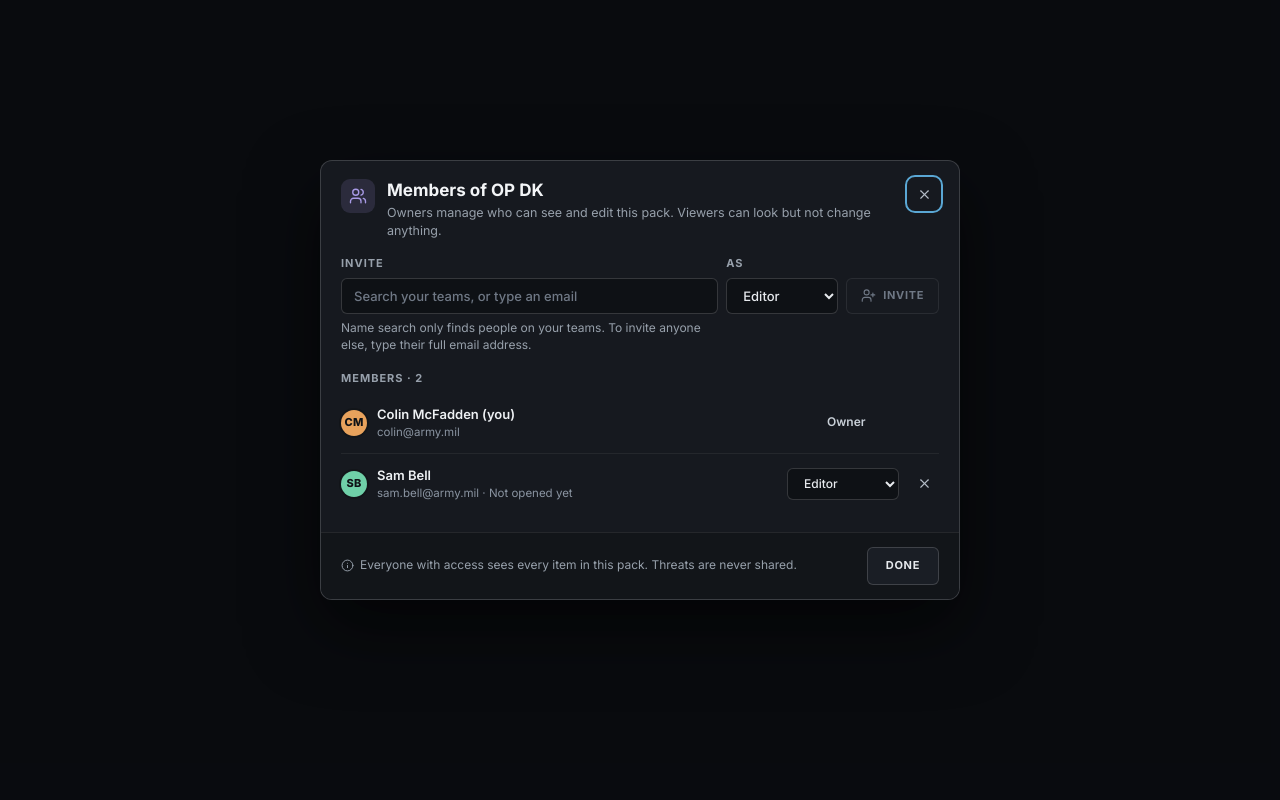
Scenario: handing a pack over › asks before making someone the owner, says the owner becomes an editor, then hands it over
Select "Owner" in the dropdown named "Role of Sam Bell". click: (843, 484)
box: top-left (787, 468), bottom-right (899, 500)
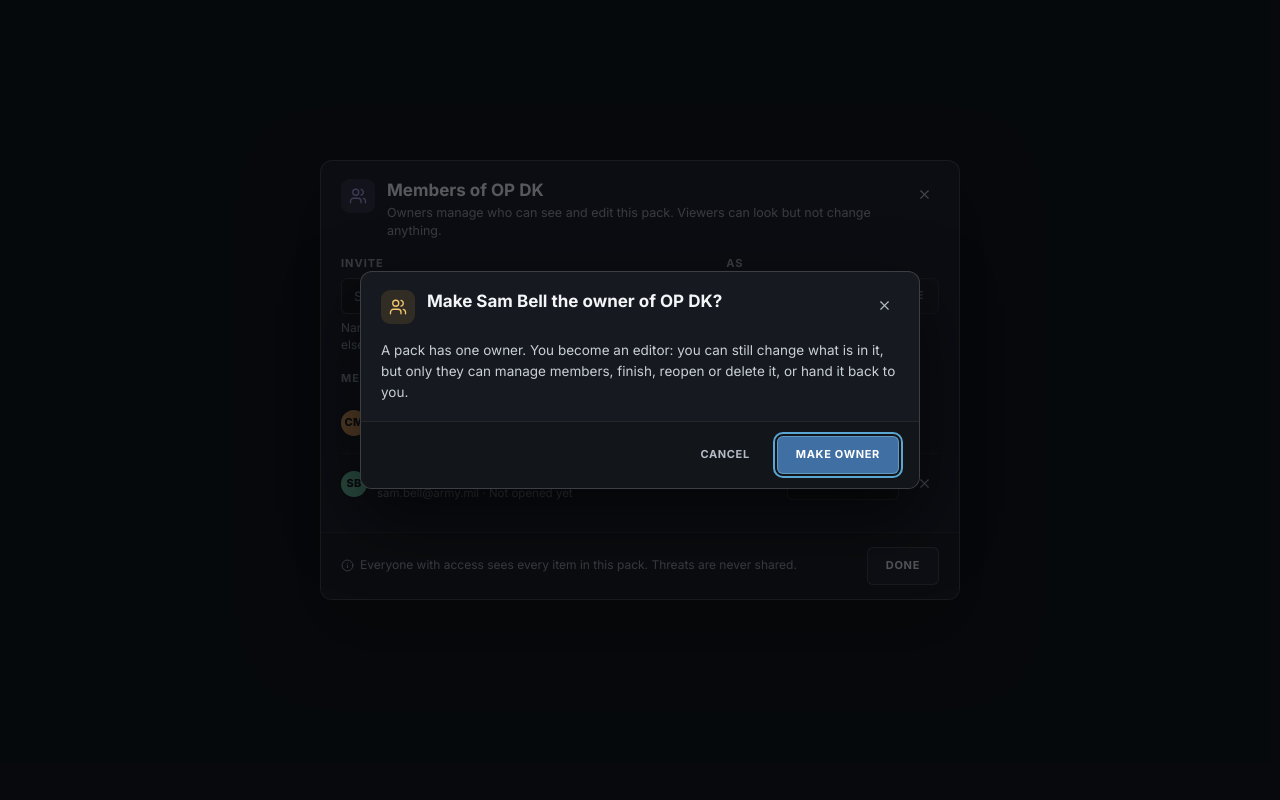
Expected: the heading "Make Sam Bell the owner of OP DK?" is shown, top-left (427, 290), bottom-right (722, 312)
Expected: the text "You become an editor" is shown, top-left (381, 342), bottom-right (895, 400)
Click the button "Make owner". click: (838, 455)
box: top-left (777, 436), bottom-right (899, 474)
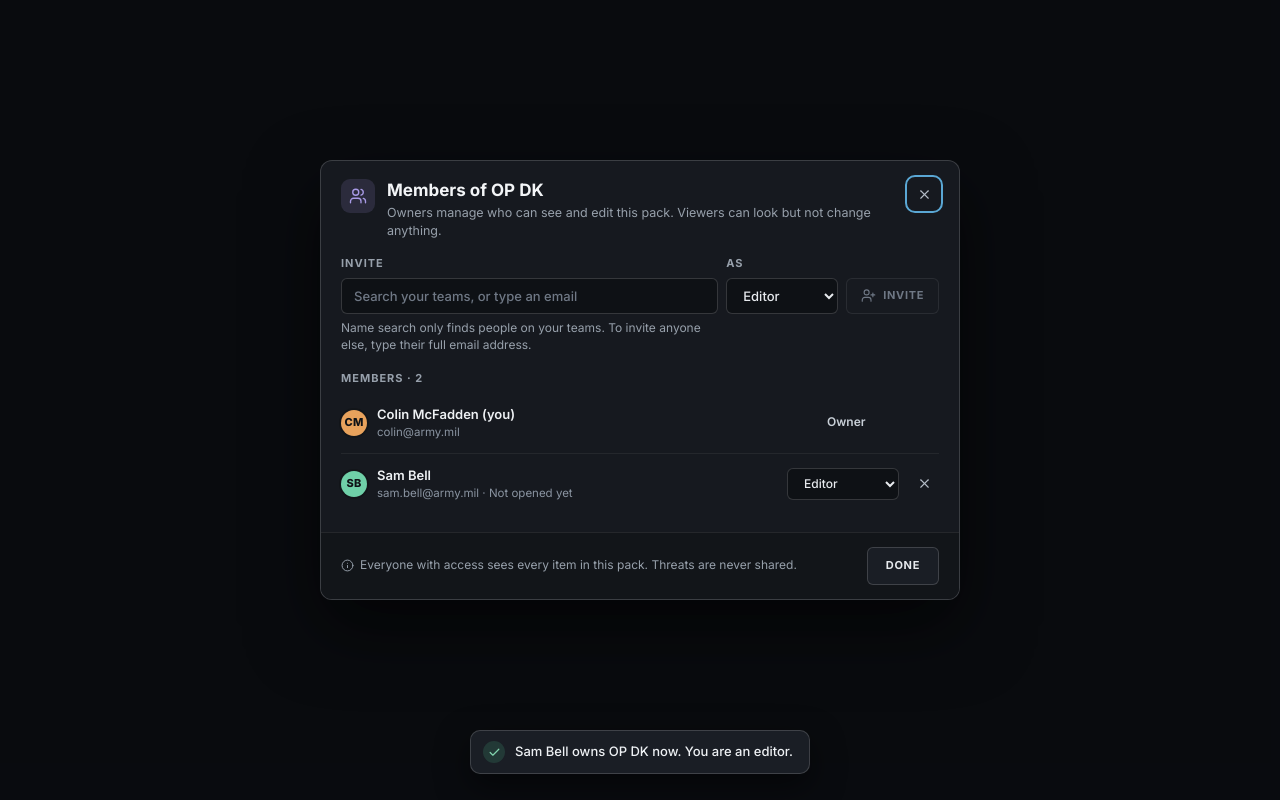
Expected: the text "Sam Bell owns OP DK now. You are an editor." is shown, top-left (515, 743), bottom-right (793, 759)
